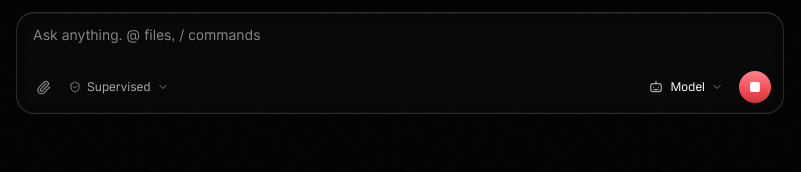
Test case: composer › picks a slash command with the leading slash in the textarea
Type "/com" into the text box at (400, 39), box 17,13 -> 783,65
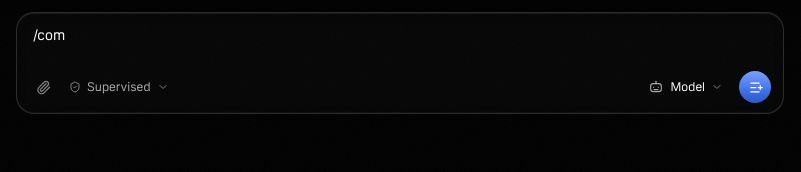
Press Enter in the text box, box 17,13 -> 783,65
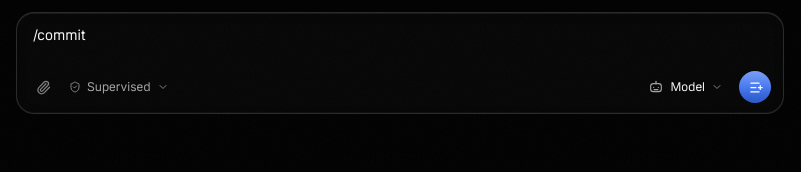
Expected: the text box holds "/commit ", 17,13 -> 783,65
